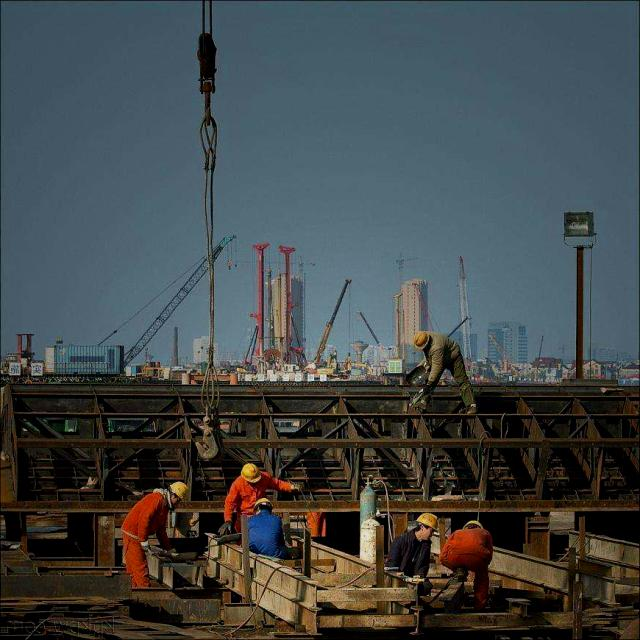hand_glove: (215, 522, 238, 544), (286, 481, 306, 497), (419, 387, 429, 399)
head_helmet: (235, 462, 261, 481), (456, 516, 488, 530), (168, 478, 188, 500), (410, 328, 432, 347), (413, 515, 441, 527), (253, 496, 274, 511)
person: (119, 474, 191, 586), (410, 327, 470, 408), (389, 515, 439, 583), (445, 520, 494, 586), (221, 462, 278, 494), (252, 499, 282, 549)
